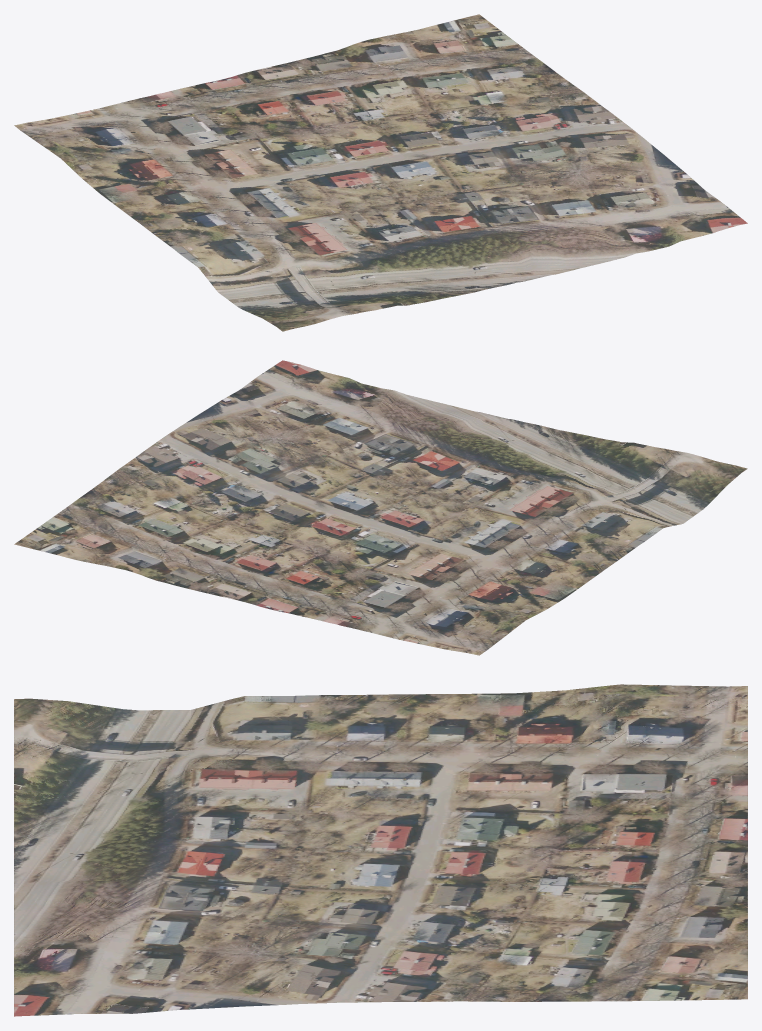
File: CM_Terrain_24489025_6821841.fbx
3 renders of one model, top to bottom at view 1: azimuth 30°, elevation 25°; view 2: azimuth 150°, elevation 25°; view 3: azimuth 270°, elevation 25°, orthographic. The views are drawn at different scales.
Visible parts, largest first — view 1: CM_Terrain_24489025_6821841_LOD0; view 2: CM_Terrain_24489025_6821841_LOD0; view 3: CM_Terrain_24489025_6821841_LOD0.
Boxes of the visible parts, left/top/right/bottom form: CM_Terrain_24489025_6821841_LOD0: left=14, top=14, right=747, bottom=331; CM_Terrain_24489025_6821841_LOD0: left=14, top=360, right=747, bottom=655; CM_Terrain_24489025_6821841_LOD0: left=14, top=684, right=747, bottom=1016.
Size of what is drawn, in the model's own units: 205 by 8.51 by 205.
